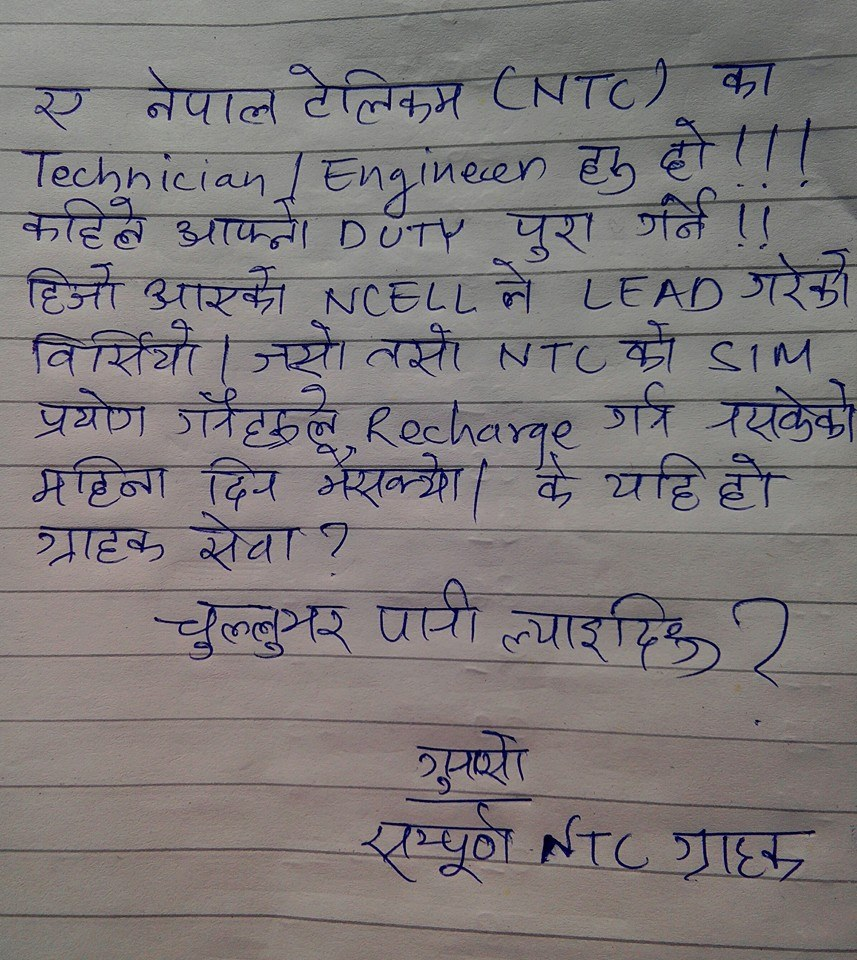text: (494, 591, 723, 683), (308, 147, 558, 212), (285, 51, 473, 131), (16, 143, 272, 201), (364, 396, 581, 464), (352, 801, 520, 882), (131, 59, 286, 146), (152, 596, 353, 658), (700, 376, 857, 447), (170, 382, 342, 446), (311, 443, 466, 510), (667, 821, 820, 883), (140, 259, 290, 321), (370, 575, 485, 649), (406, 723, 531, 788), (169, 201, 315, 256), (30, 455, 170, 512), (536, 810, 654, 877), (16, 194, 154, 251), (581, 267, 730, 319), (30, 385, 152, 446), (188, 510, 302, 574), (28, 519, 166, 571), (741, 250, 854, 313), (522, 59, 641, 118), (597, 452, 705, 515), (322, 280, 480, 323), (330, 213, 469, 259), (20, 260, 124, 319), (502, 205, 602, 266), (197, 452, 287, 516), (632, 187, 721, 248), (565, 134, 644, 196), (712, 451, 787, 516), (599, 377, 680, 437), (705, 47, 787, 106), (24, 75, 99, 139), (654, 115, 721, 184), (486, 258, 538, 316), (533, 455, 582, 510)
